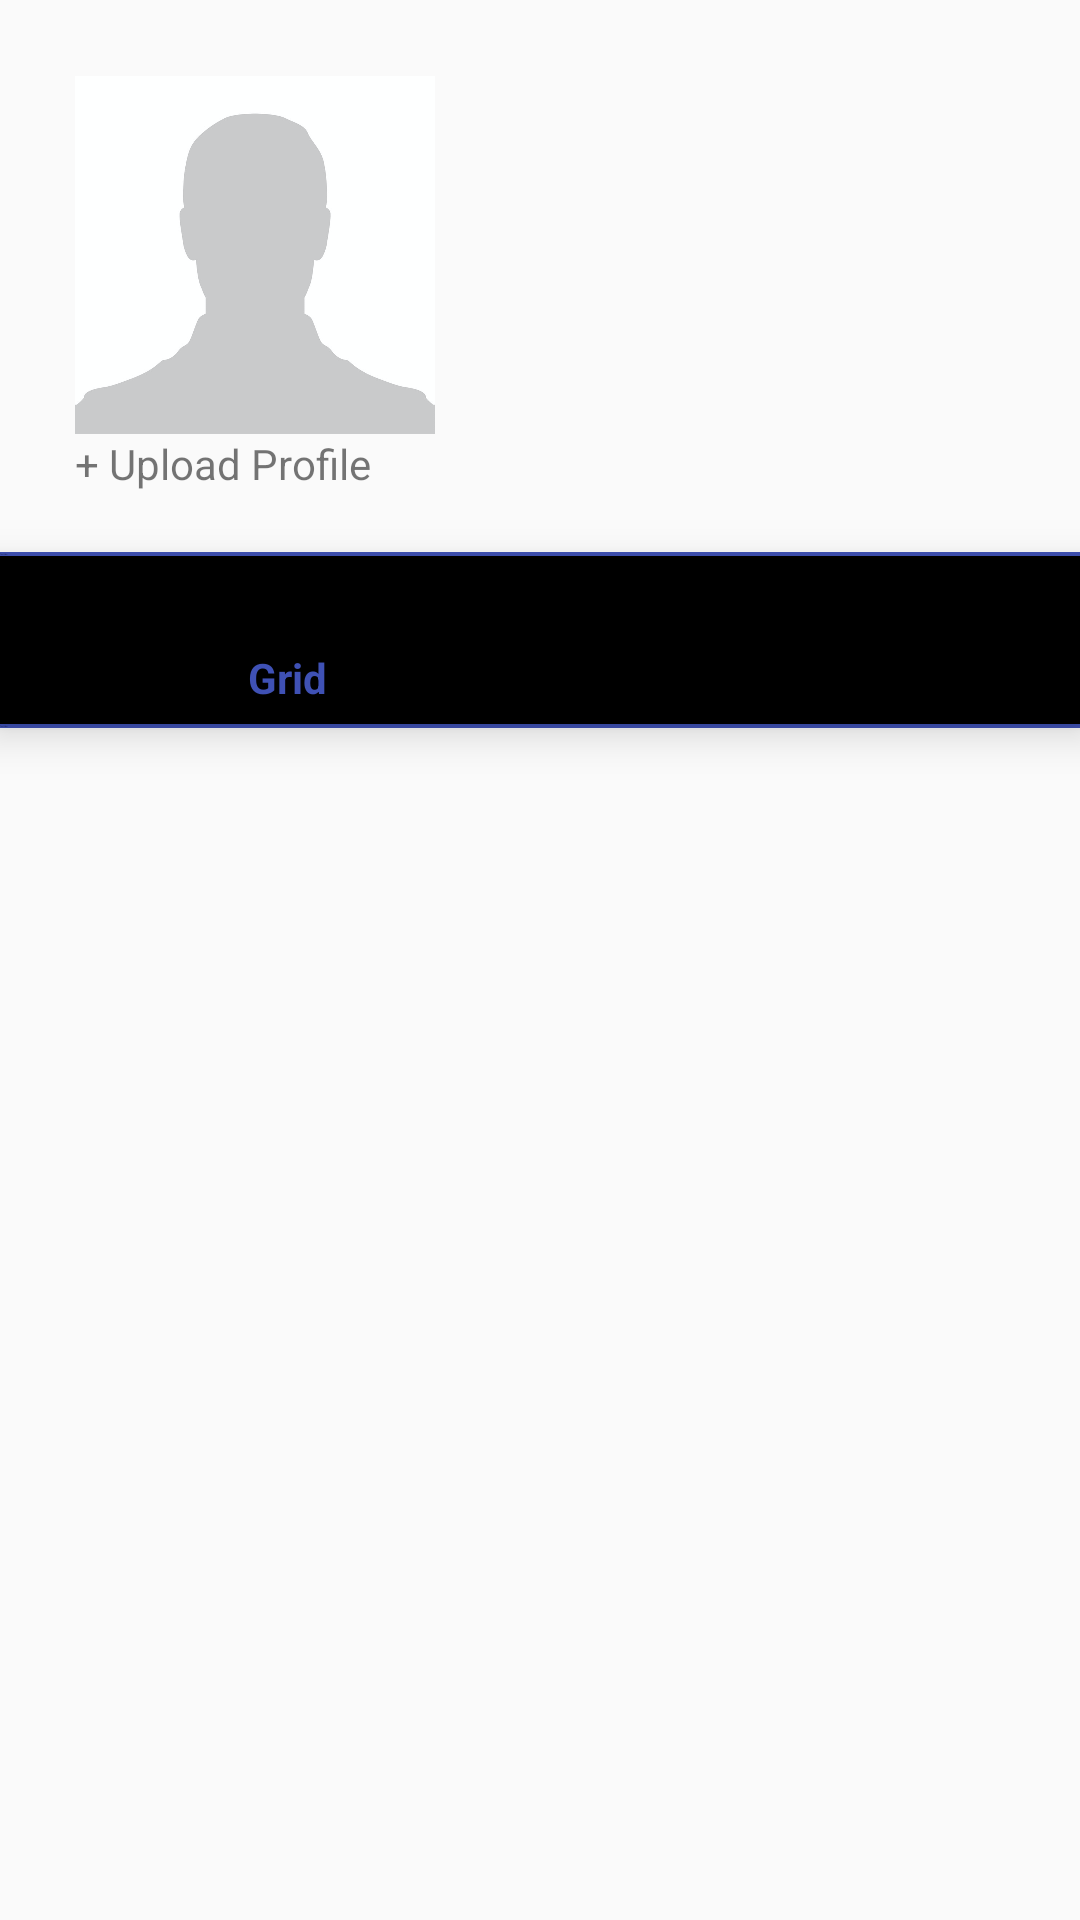

Icon click points for this 1080px×1920px phone screenshot, format point (x, y):
profileplaceholder: point (255, 274)
